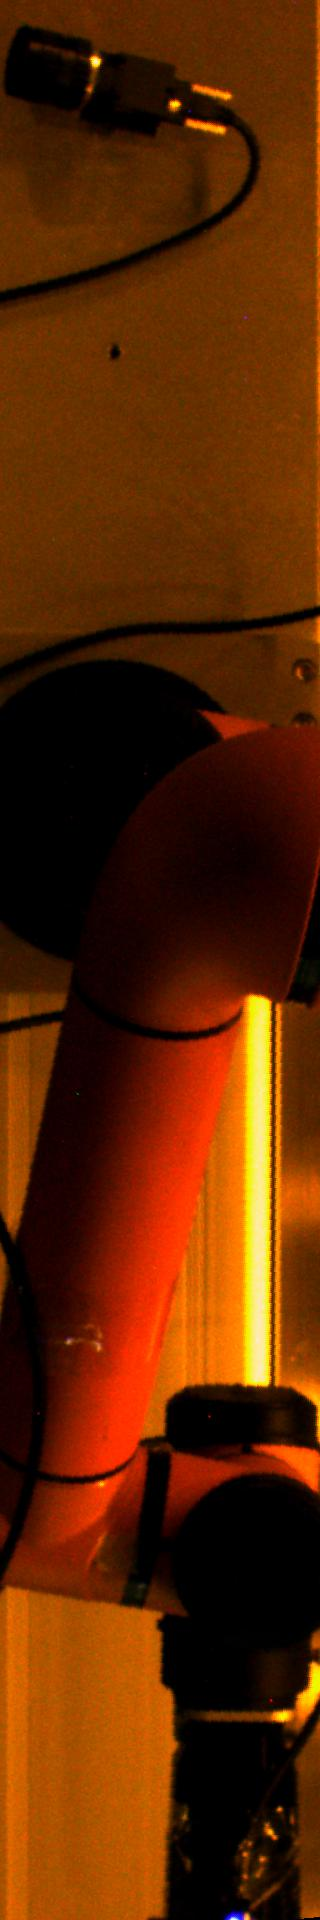keyPoint_2: (99, 339, 129, 369)
